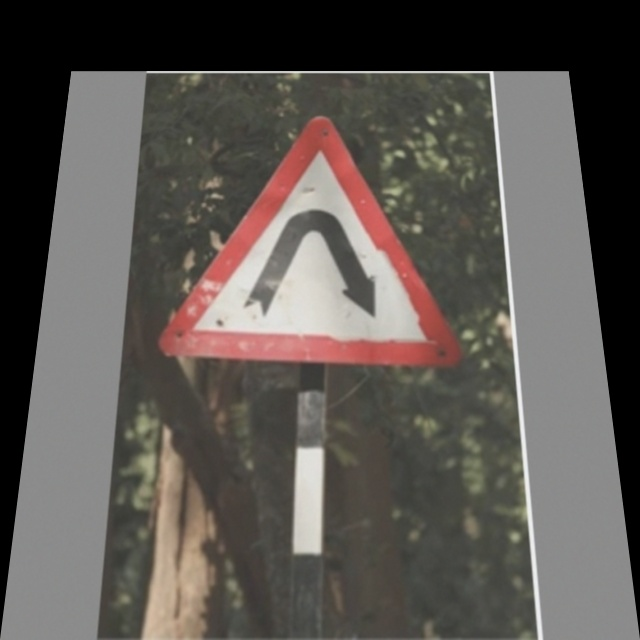Right_Hair_Pin_Bend: (167, 117, 455, 364)
